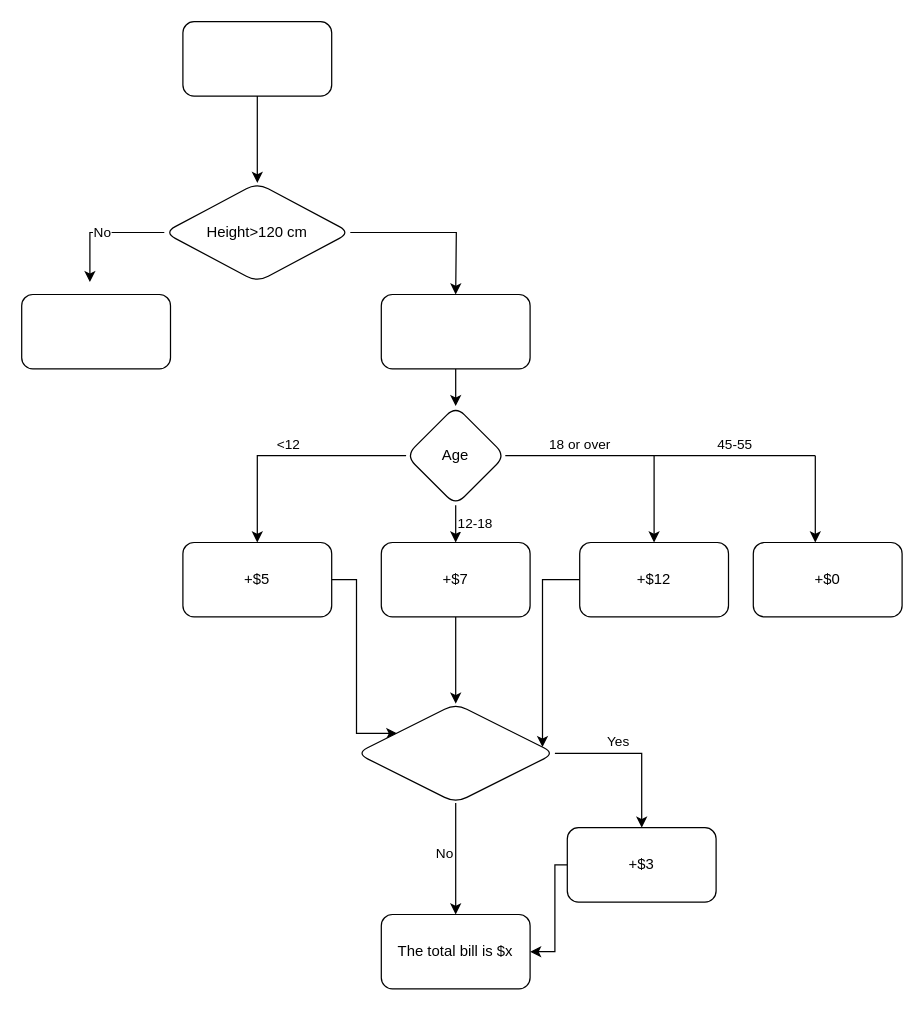
Image size: 924x1011. Some labels were removed from this diagram. The centre of each missing label's shape, as x and y in pixels:
Can Ride: [455,331]
Can't ride: [95,331]
START: [257,58]
Want Photos?: [455,752]
